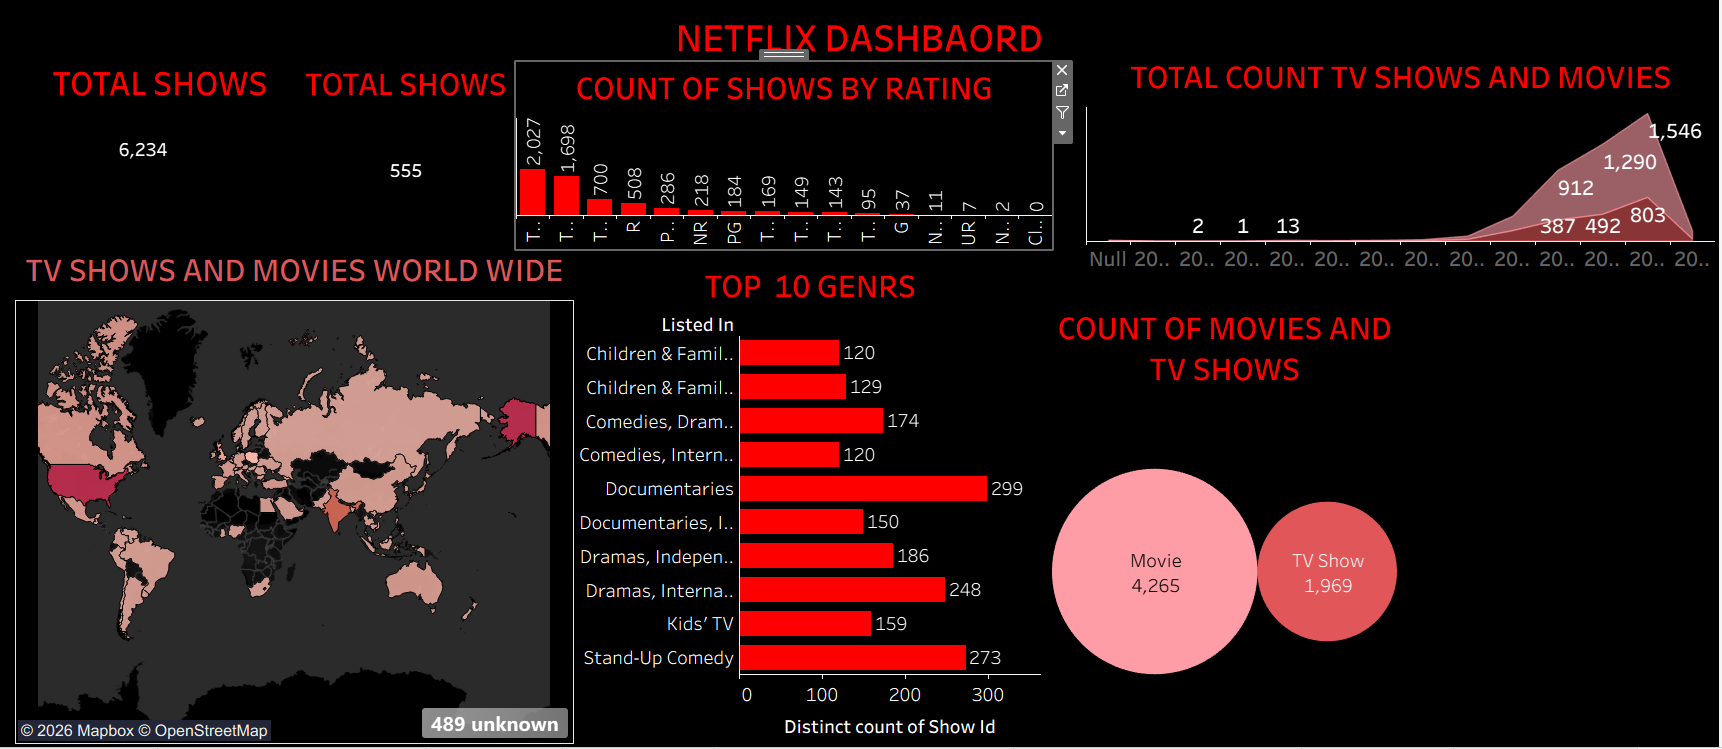

The dashboard page shown, as its layout file describes it:
{"tool":"tableau","page":{"name":"Dashboard 1","canvas":[1000,1000],"units":"permille","ordinal":0},"visuals":[{"type":"title","box":[4.7,10.7,990.7,77.6]},{"type":"worksheet","title":"TOTAL COUNT COUNT OF TV SHOWS AND MOVIES","mark":"Area","rows":["show_id"],"cols":["date_added"],"box":[632,68.3,365.7,315.9]},{"type":"worksheet","title":"TOTAL SHOWS","mark":"Automatic","box":[4.7,75.3,157.6,168.5]},{"type":"worksheet","title":"TOTAL COUNTRYS","mark":"Automatic","box":[174.4,78.1,123.8,169.9]},{"type":"worksheet","title":"COUNT OF SHOWS BY RATING","mark":"Automatic","rows":["show_id"],"cols":["rating"],"box":[300.6,83.6,311.6,249.3]},{"type":"worksheet","title":"WORLD WIDE","mark":"Multipolygon","box":[9.3,326,325,669.9]},{"type":"worksheet","title":"TOP 10 GENRS","mark":"Automatic","rows":["listed_in"],"cols":["show_id"],"box":[337.2,348.1,268.6,649.3]},{"type":"worksheet","title":"COUNT OF MOVES AND TV SHOWS","mark":"Circle","box":[612.2,404.3,387.8,591.7]}]}

Visuals, with their boxes on the dashboard's canvas, which has no fixed pixel size, in thousandths of its width and height (x1, y1, x2, y2). These are canvas units, not pixel positions in the 1722x749 screenshot, which may show the page scaled, cropped or inside an application window:
title: {"x1": 5, "y1": 11, "x2": 995, "y2": 88}
"TOTAL COUNT COUNT OF TV SHOWS AND MOVIES" worksheet (Area marks): {"x1": 632, "y1": 68, "x2": 998, "y2": 384}
"TOTAL SHOWS" worksheet: {"x1": 5, "y1": 75, "x2": 162, "y2": 244}
"TOTAL COUNTRYS" worksheet: {"x1": 174, "y1": 78, "x2": 298, "y2": 248}
"COUNT OF SHOWS BY RATING" worksheet: {"x1": 301, "y1": 84, "x2": 612, "y2": 333}
"WORLD WIDE" worksheet (Multipolygon marks): {"x1": 9, "y1": 326, "x2": 334, "y2": 996}
"TOP 10 GENRS" worksheet: {"x1": 337, "y1": 348, "x2": 606, "y2": 997}
"COUNT OF MOVES AND TV SHOWS" worksheet (Circle marks): {"x1": 612, "y1": 404, "x2": 1000, "y2": 996}
